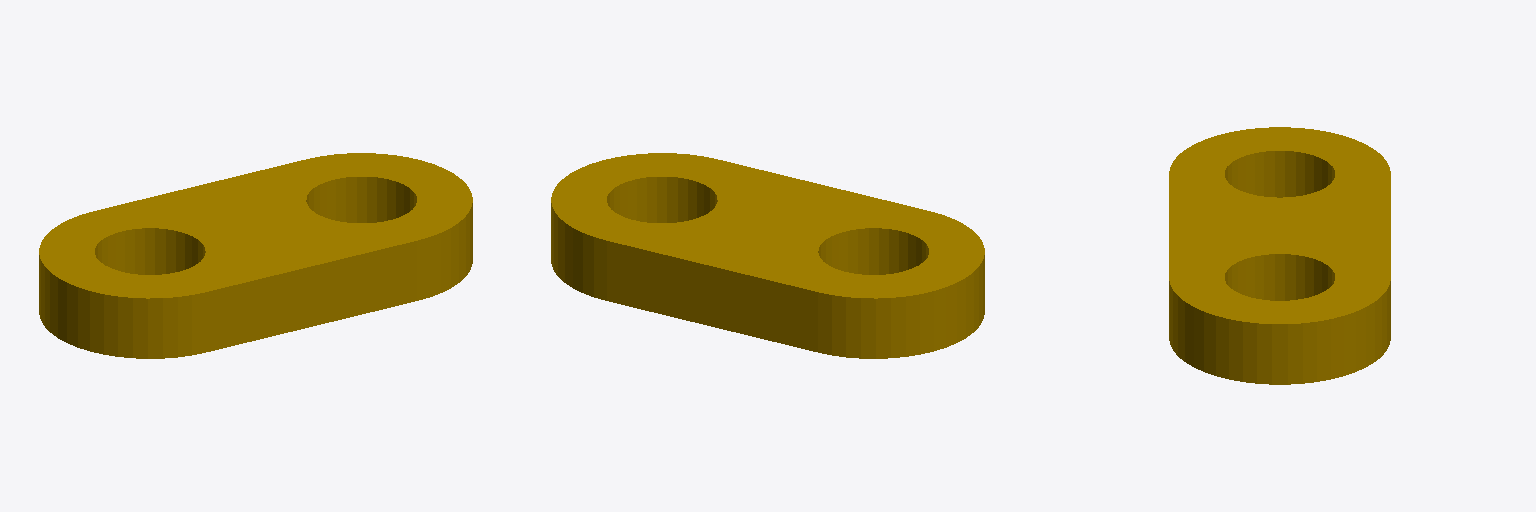
The model's file is Clip.obj.
The picture shows the model from 3 angles: view 1: azimuth 30°, elevation 25°; view 2: azimuth 150°, elevation 25°; view 3: azimuth 270°, elevation 25°; orthographic projection.
Visible parts, largest first — view 1: Clip; view 2: Clip; view 3: Clip.
Part boxes in pixels (bbox=[...]): Clip: bbox=[39, 153, 472, 358]; Clip: bbox=[551, 153, 984, 358]; Clip: bbox=[1169, 127, 1390, 384].
Size of the model in its own units: 105 by 15 by 50.